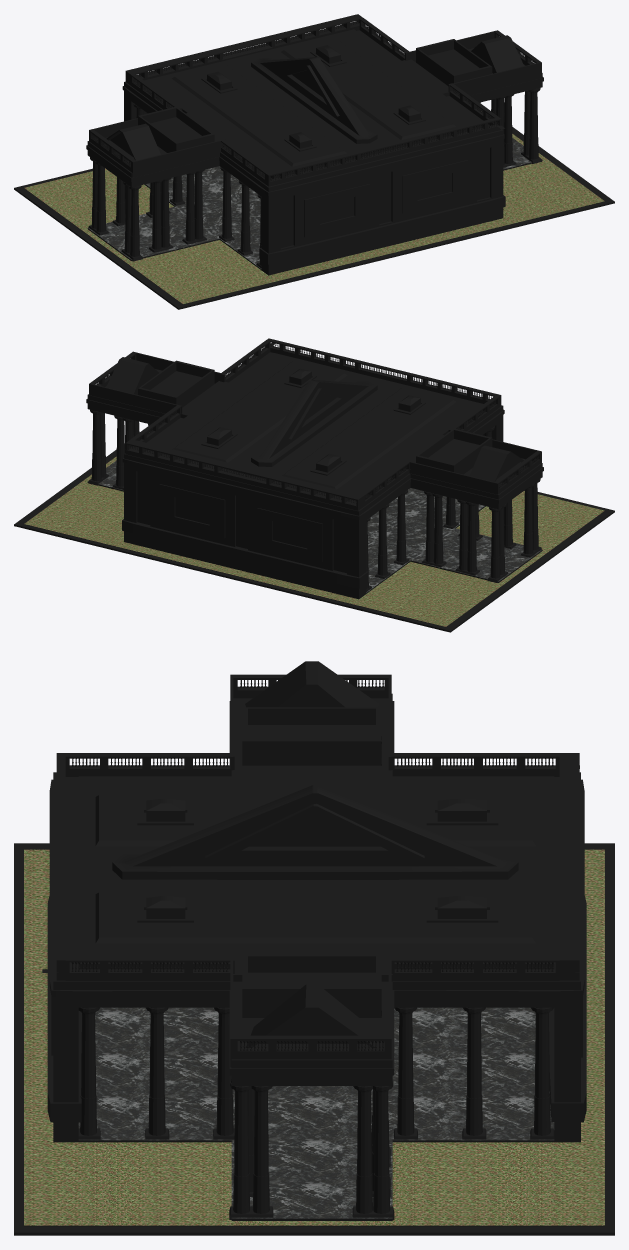
The model's file is greek_temple-draco-transformed.glb.
3 views of the same model, one above another, from view 1: azimuth 30°, elevation 25°; view 2: azimuth 150°, elevation 25°; view 3: azimuth 270°, elevation 25° (orthographic). The views are drawn at different scales.
Parts seen in each view (by area): view 1: objStructure; view 2: objStructure; view 3: objStructure.
Part boxes in pixels (x1=…): objStructure: x1=14, y1=14, x2=614, y2=309; objStructure: x1=14, y1=338, x2=614, y2=632; objStructure: x1=14, y1=661, x2=614, y2=1235.
Size of the model in its own units: 28.99 by 8.74 by 18.92.
3 materials, 2 textured.
